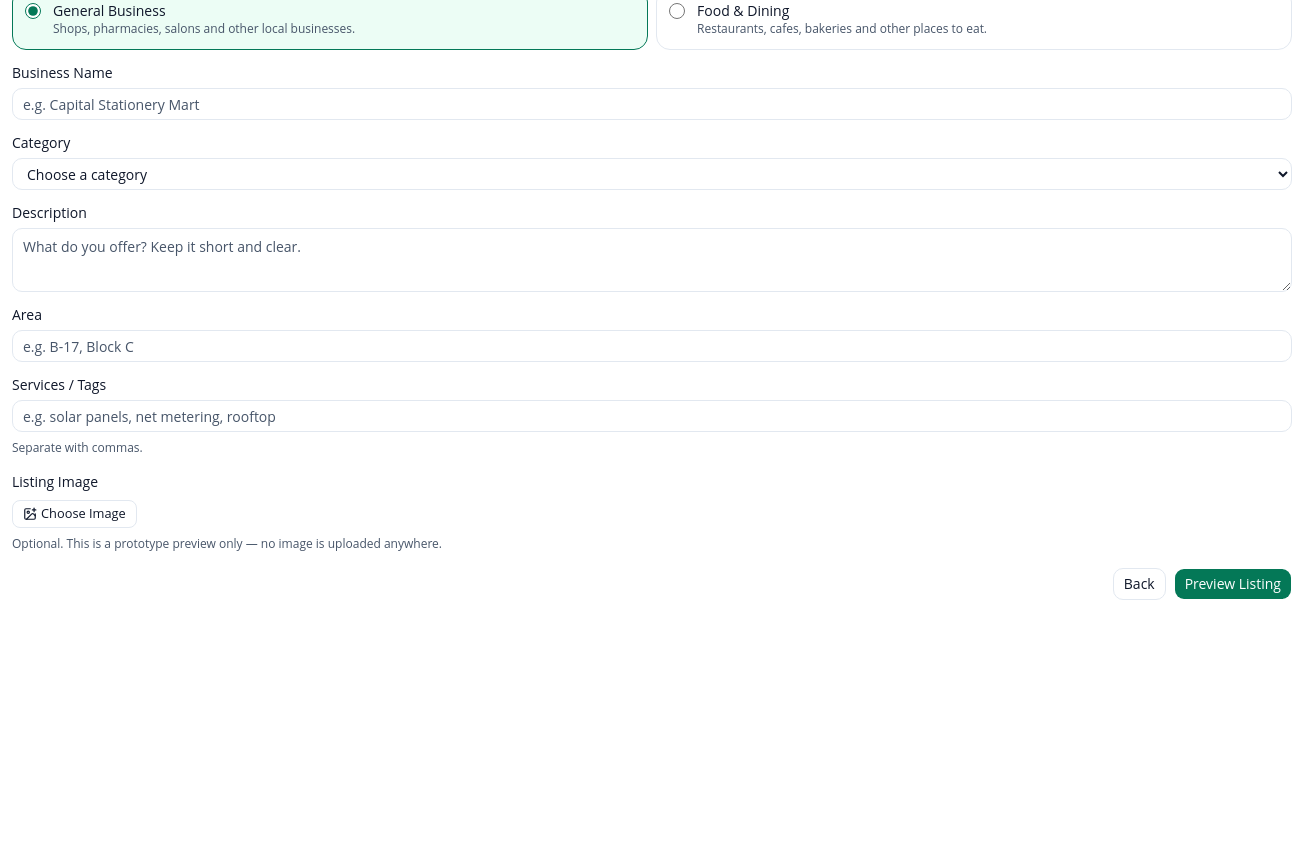
Scenario: ListingForm — Business type › choosing Food & Dining reveals the Food fields and replaces the typed Category field
Click the radio button labelled "Food & Dining".
click(677, 11)  # box 669,3 -> 685,19
(page scrolled)
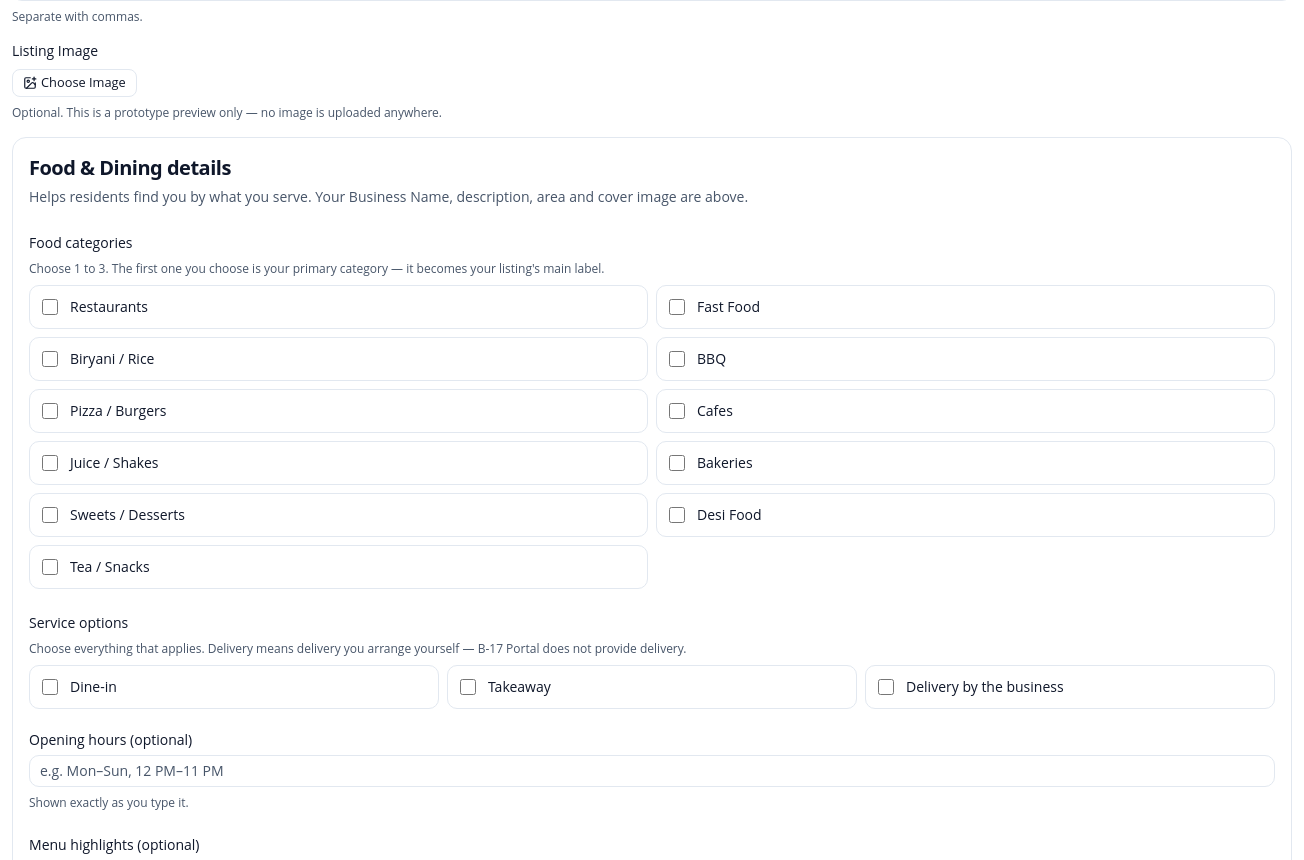
Expected: the heading "Food & Dining details" is shown, 29,154 -> 231,181
Expected: the element "Food categories" is shown, 29,233 -> 1275,589
